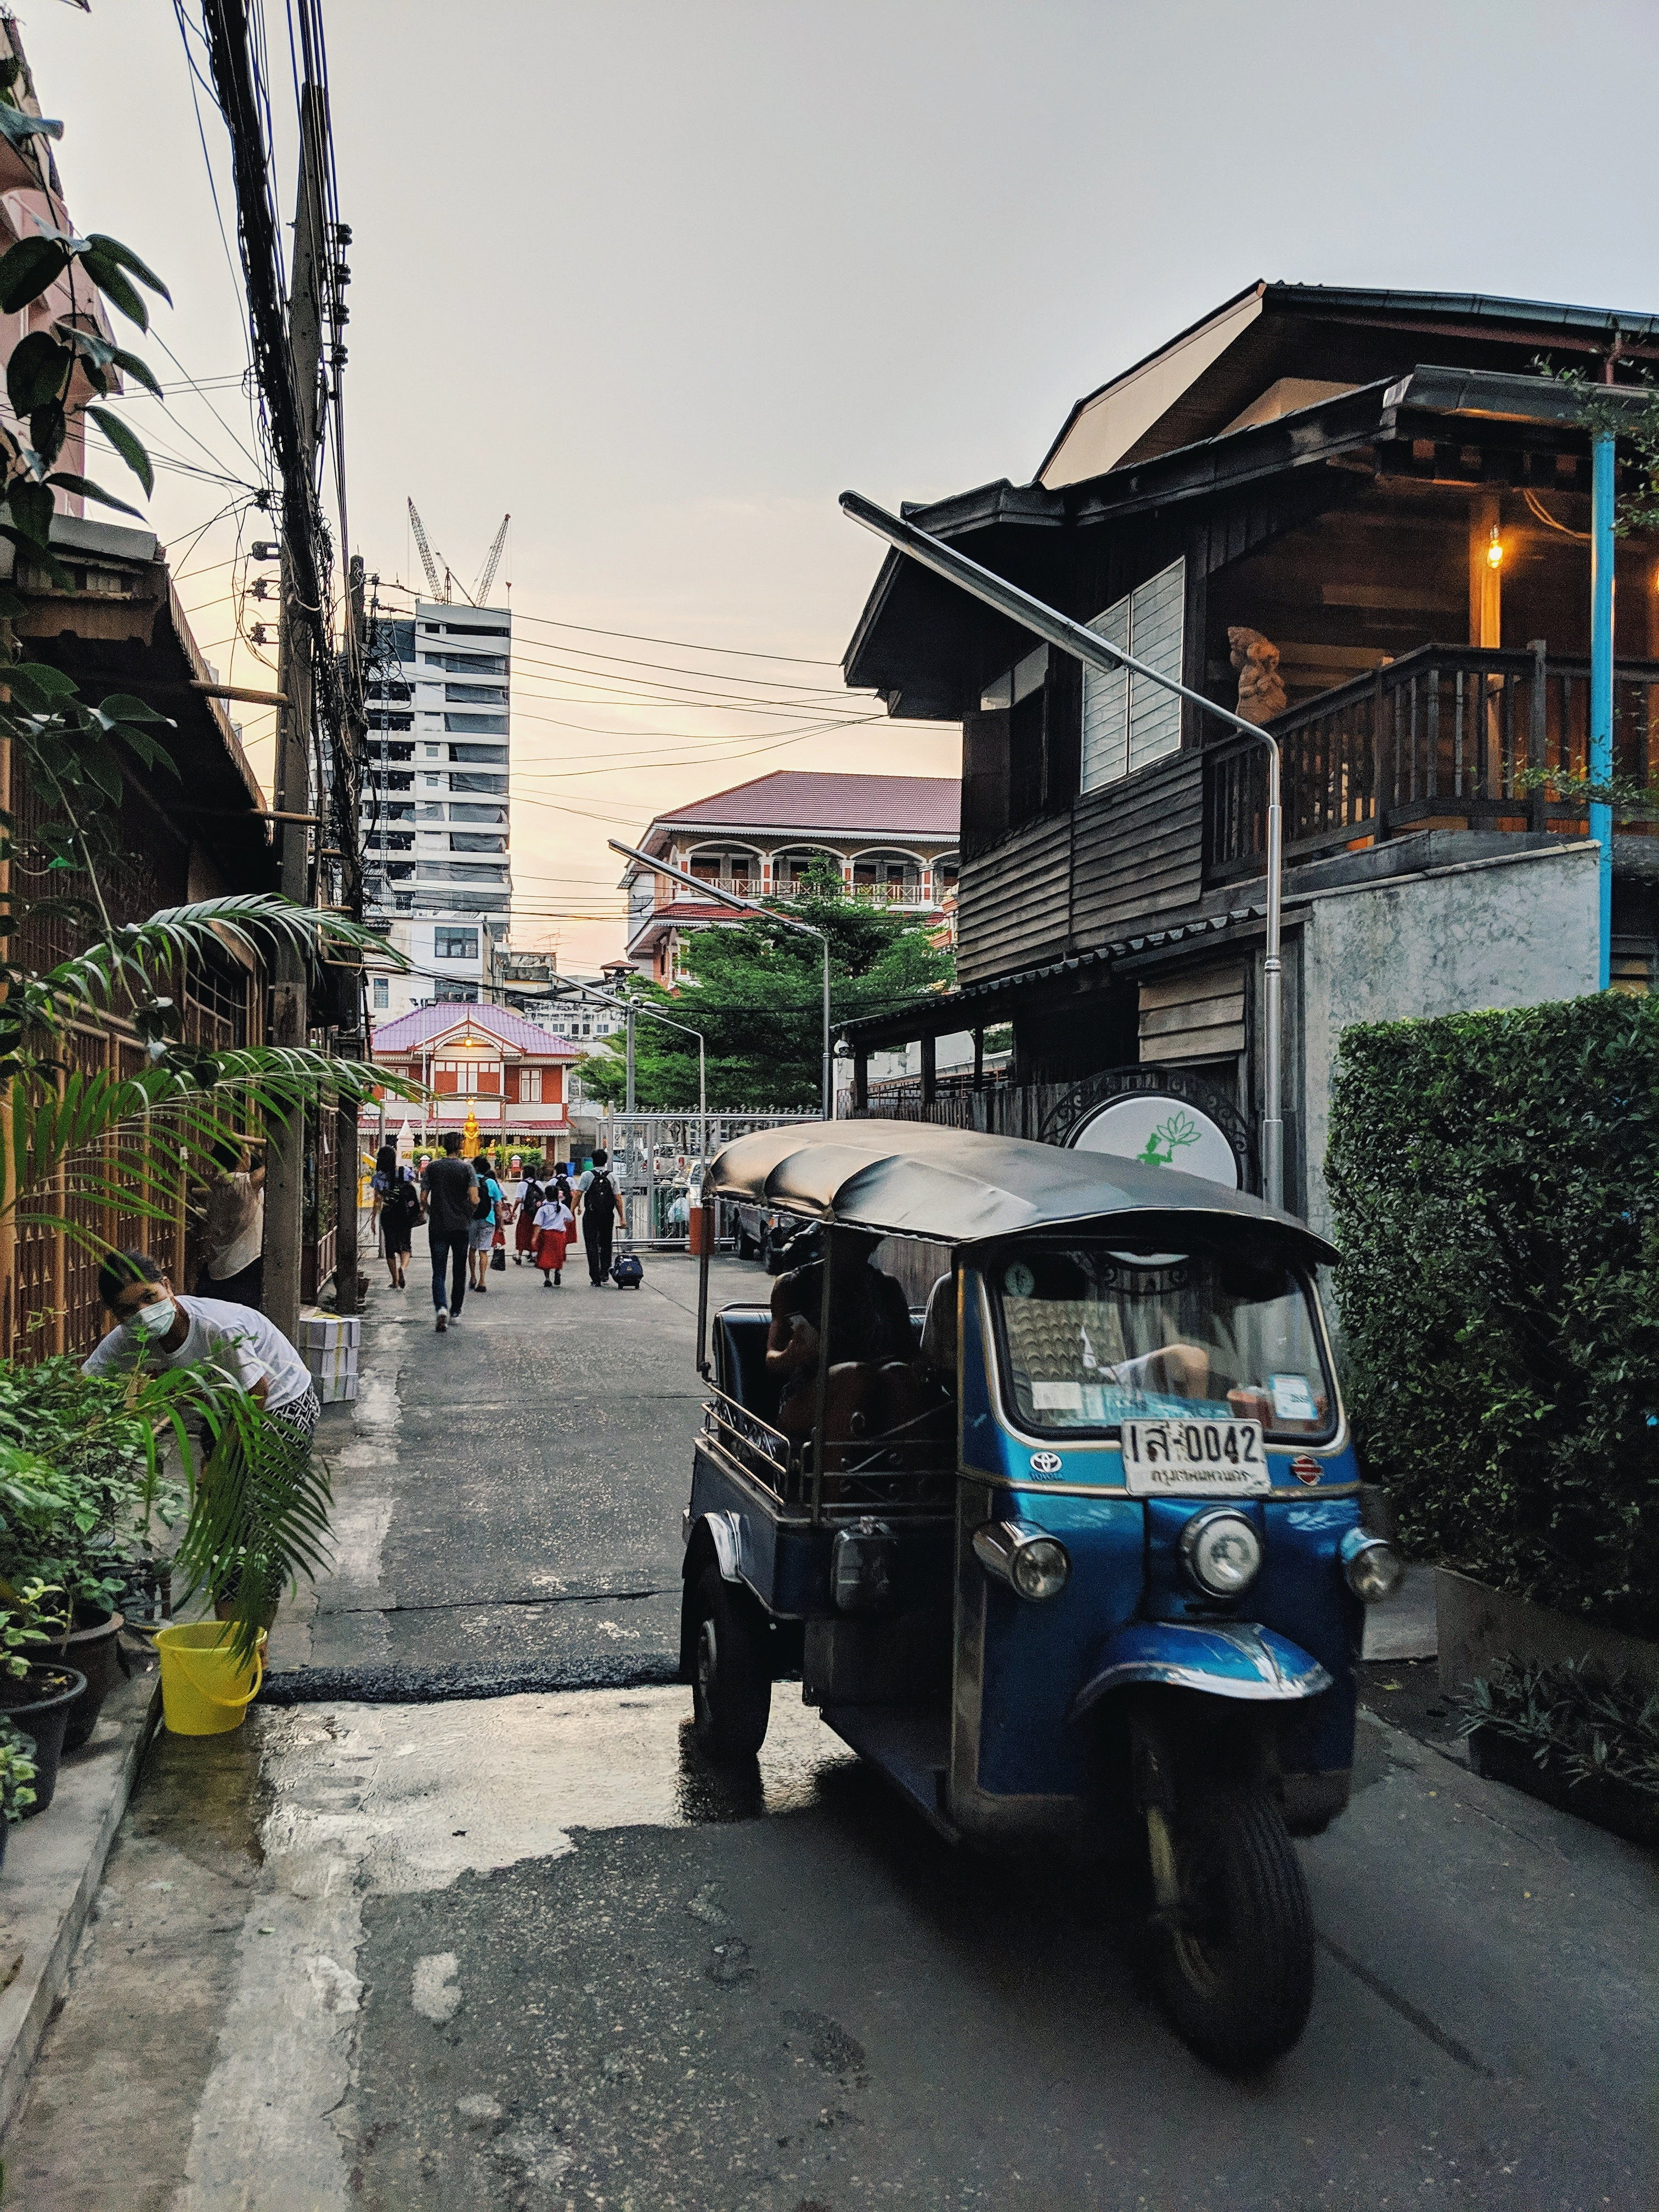threewheel: (671, 1122, 1371, 2092)
